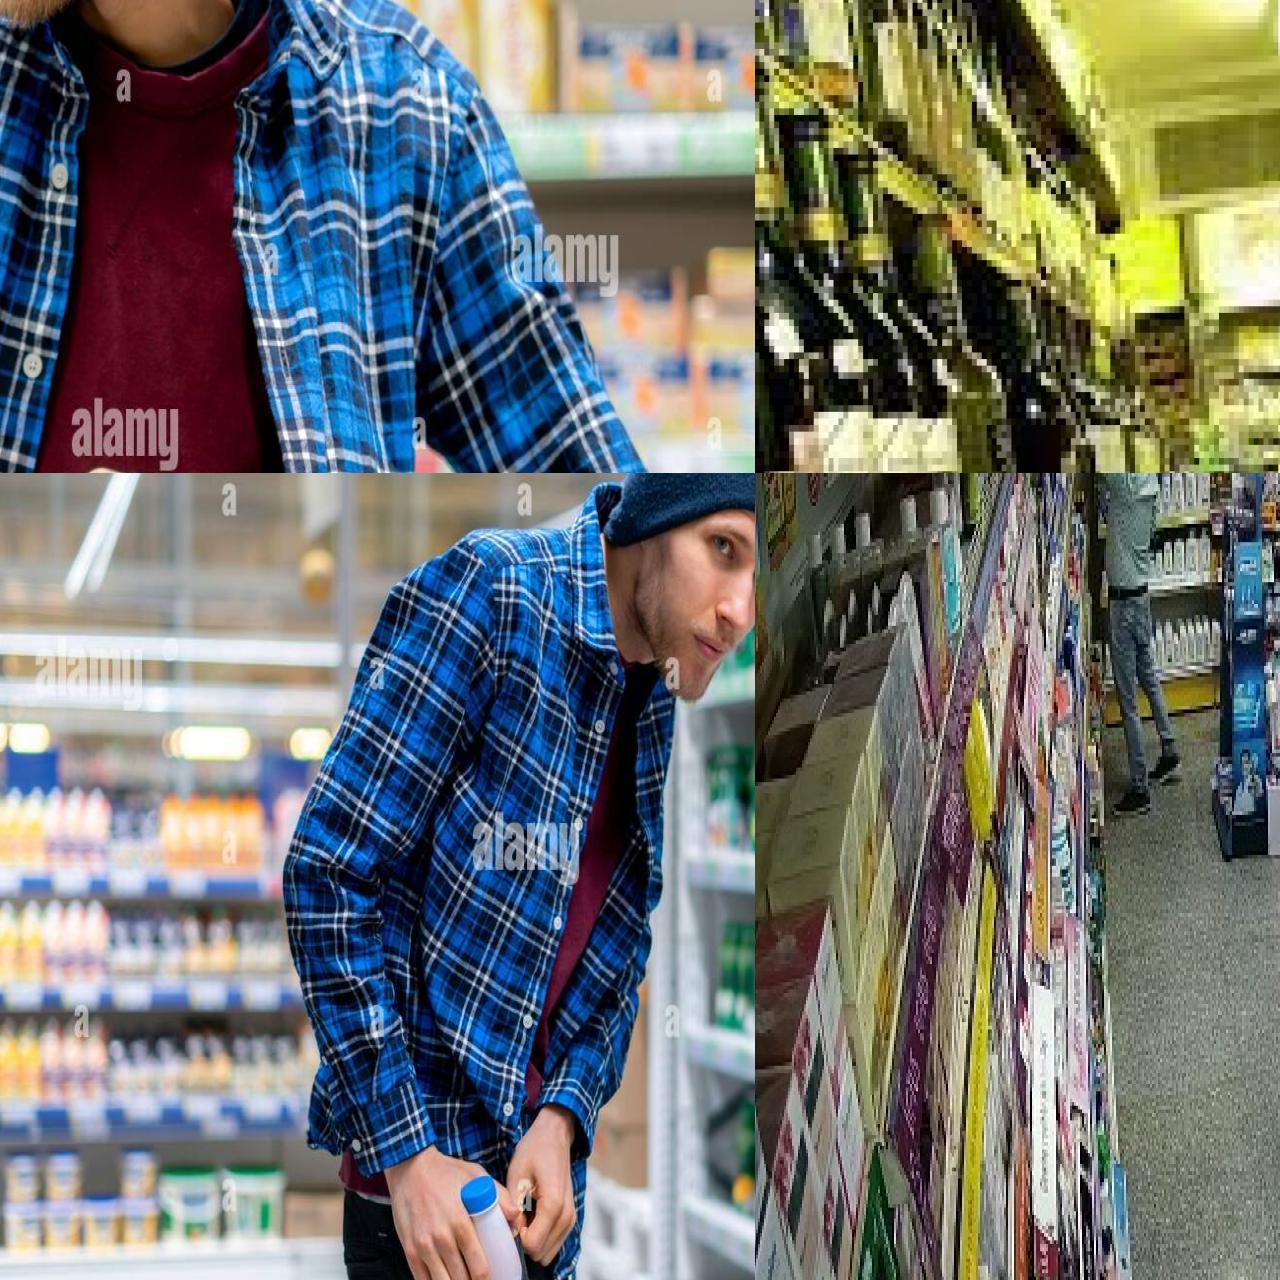Shoplifting: (320, 474, 755, 1280), (0, 0, 481, 474)
normal: (1219, 501, 1280, 1280)
